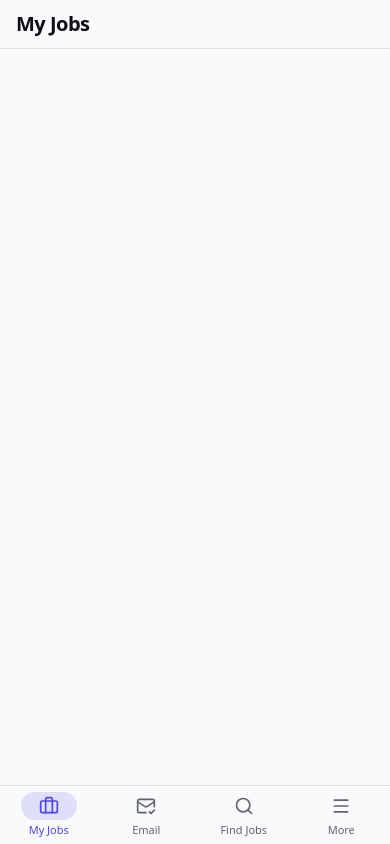
Test: phone tab bar › More opens a sheet with the other pages and Sign out
The image size is (390, 844).
Click the button "More".
click(341, 815)  # box [292, 786, 389, 843]
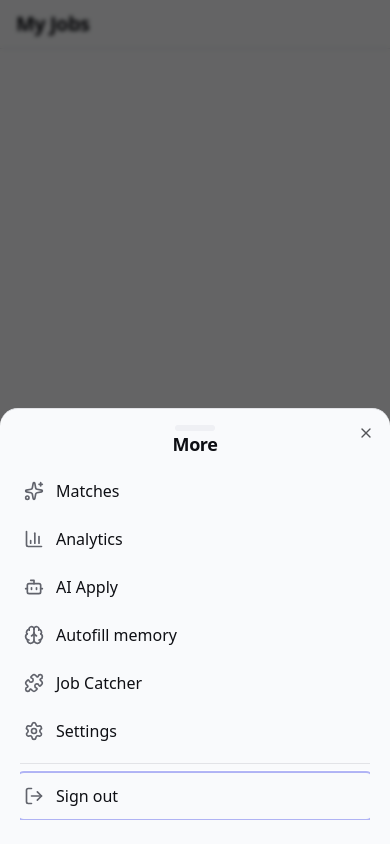
expect the links read "Matches", "Analytics", "AI Apply", "Autofill memory", "Job Catcher", "Settings", in this order: met, box [24, 480, 120, 502]; [24, 528, 123, 550]; [24, 576, 118, 598]; [24, 624, 177, 646]; [24, 672, 142, 694]; [24, 720, 117, 742]
expect the button "Sign out" is shown: met, box [20, 772, 370, 820]
